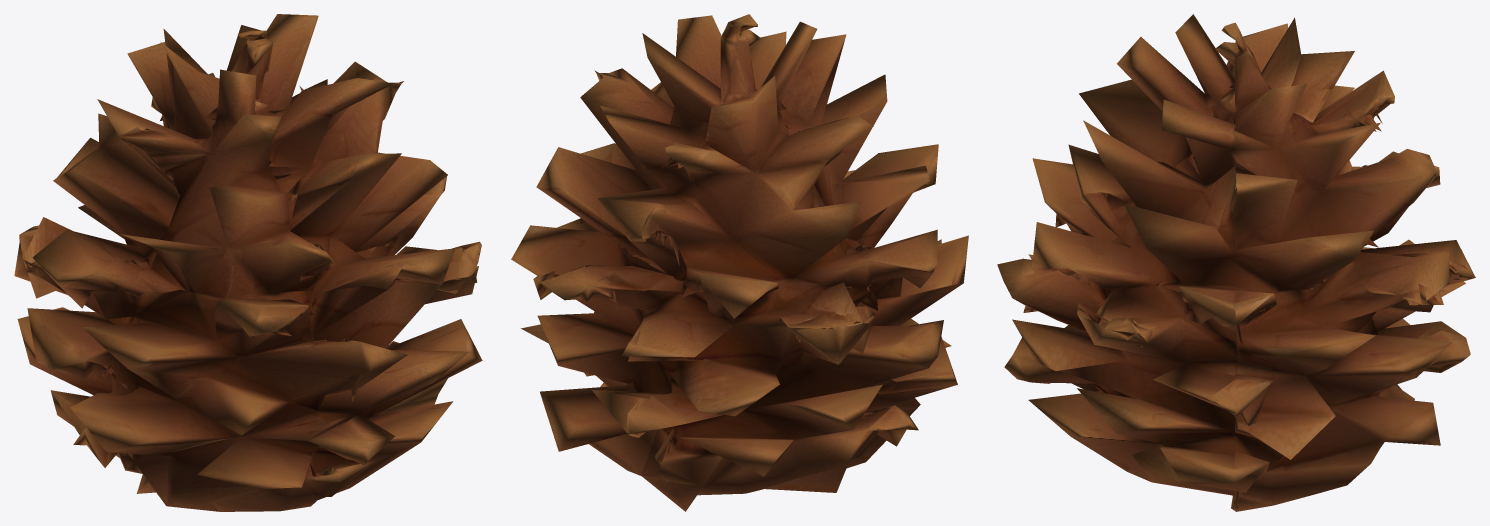
The model's file is ammo-cluster.glb.
3 renders of one model, left to right at view 1: azimuth 30°, elevation 25°; view 2: azimuth 150°, elevation 25°; view 3: azimuth 270°, elevation 25°, orthographic.
Visible parts, largest first — view 1: tripo_node_e991341f-e5ab-4674-b83a-e28c5ef4c9d4; view 2: tripo_node_e991341f-e5ab-4674-b83a-e28c5ef4c9d4; view 3: tripo_node_e991341f-e5ab-4674-b83a-e28c5ef4c9d4.
Boxes of the visible parts, x1=… form: tripo_node_e991341f-e5ab-4674-b83a-e28c5ef4c9d4: x1=14, y1=14, x2=482, y2=511; tripo_node_e991341f-e5ab-4674-b83a-e28c5ef4c9d4: x1=511, y1=14, x2=968, y2=511; tripo_node_e991341f-e5ab-4674-b83a-e28c5ef4c9d4: x1=997, y1=14, x2=1475, y2=511.
Size of the model in its own units: 0.9271 by 0.9915 by 0.949.
1 material, 1 textured.
